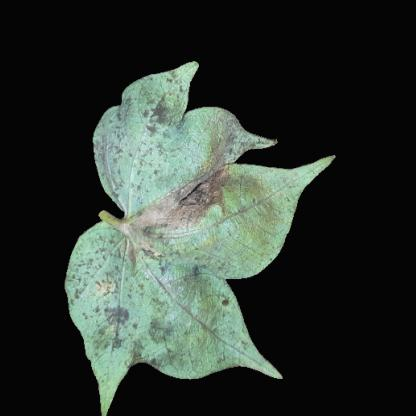curl_stage2: (233, 186, 286, 241), (208, 244, 266, 270), (187, 111, 224, 149)
sooty: (145, 150, 233, 228), (67, 246, 129, 330), (71, 232, 129, 298), (133, 77, 187, 145), (129, 234, 179, 295), (125, 319, 177, 371), (99, 112, 126, 190)
